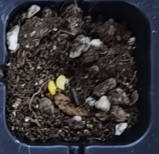pepper seed: (21, 28, 89, 119), (18, 30, 76, 126)
